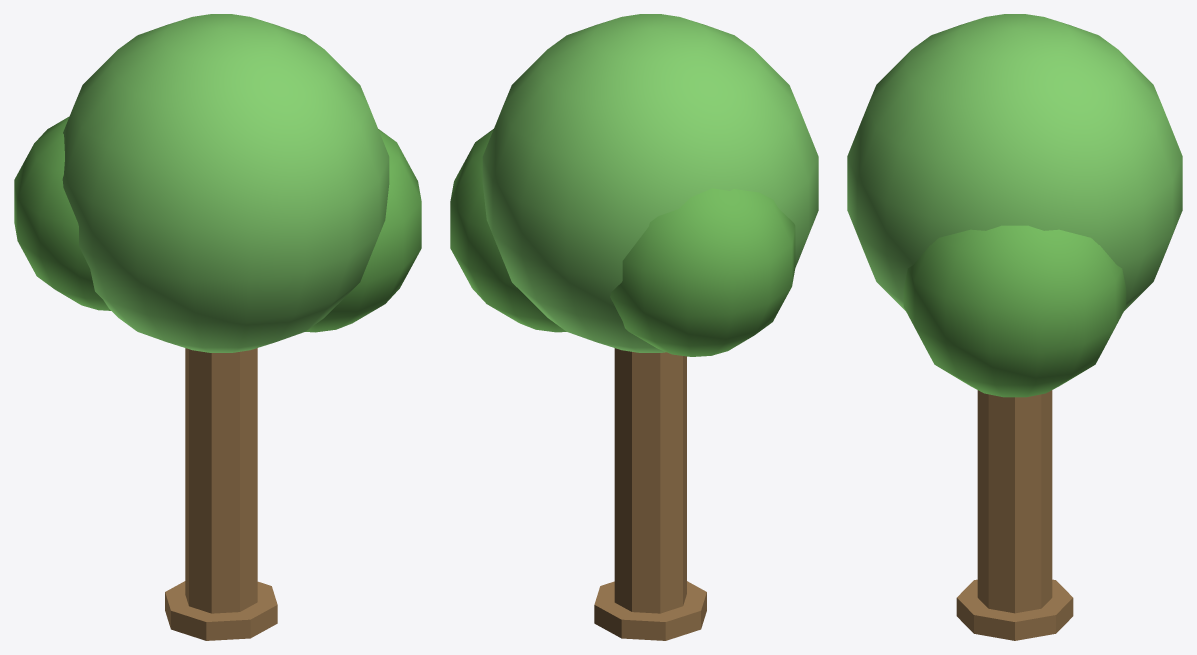
File: tree_round.glb
3 views of the same model, side by side, from view 1: azimuth 30°, elevation 25°; view 2: azimuth 150°, elevation 25°; view 3: azimuth 270°, elevation 25° (orthographic).
Parts seen in each view (by area): view 1: Sphere, Cylinder, Sphere.002, Sphere.001, Cylinder.001; view 2: Sphere, Sphere.002, Cylinder, Sphere.001, Cylinder.001; view 3: Sphere, Sphere.001, Cylinder, Cylinder.001.
Boxes of the visible parts, x1,y1,x2,y2 form: Sphere: [62, 14, 389, 352]; Cylinder: [185, 348, 257, 613]; Sphere.002: [14, 116, 110, 310]; Sphere.001: [305, 129, 421, 332]; Cylinder.001: [165, 581, 277, 640]; Sphere: [482, 14, 818, 352]; Sphere.002: [610, 188, 795, 356]; Cylinder: [614, 348, 686, 613]; Sphere.001: [450, 129, 566, 332]; Cylinder.001: [594, 581, 706, 640]; Sphere: [847, 14, 1182, 310]; Sphere.001: [903, 225, 1126, 397]; Cylinder: [977, 390, 1052, 613]; Cylinder.001: [956, 579, 1073, 640].
Bounding box in the file's own units: 1.92 × 3.12 × 1.62.
